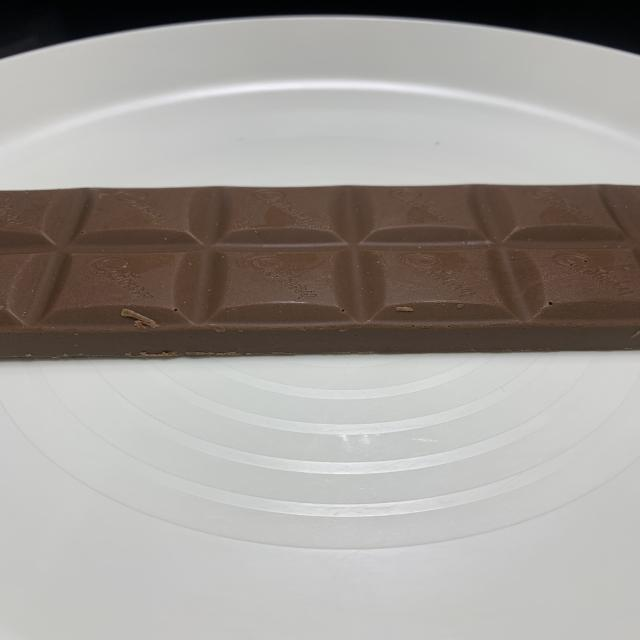Chocolate: (0, 182, 640, 362)
